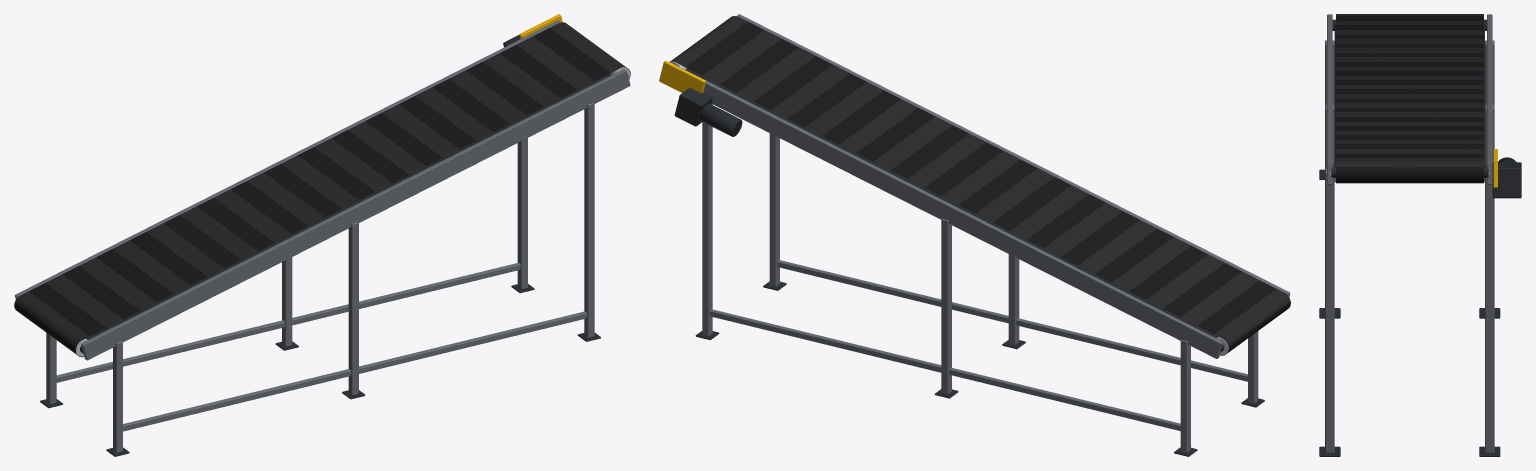
Rendered from belt_conveyor_inclined.glb.
3 views of the same model, side by side, from view 1: azimuth 30°, elevation 25°; view 2: azimuth 150°, elevation 25°; view 3: azimuth 270°, elevation 25° (orthographic). The views are drawn at different scales.
Parts seen in each view (by area): view 1: Belt, Incline_Static; view 2: Belt, Incline_Static; view 3: Belt, Incline_Static.
Part boxes in pixels (<box>): Belt: <box>14,22,630,357</box>; Incline_Static: <box>14,14,630,456</box>; Belt: <box>669,16,1290,355</box>; Incline_Static: <box>659,14,1290,456</box>; Belt: <box>1336,14,1483,183</box>; Incline_Static: <box>1319,14,1521,456</box>.
Bounding box in the file's own units: 4.01 × 1.81 × 1.05.
5 materials, 1 textured.
